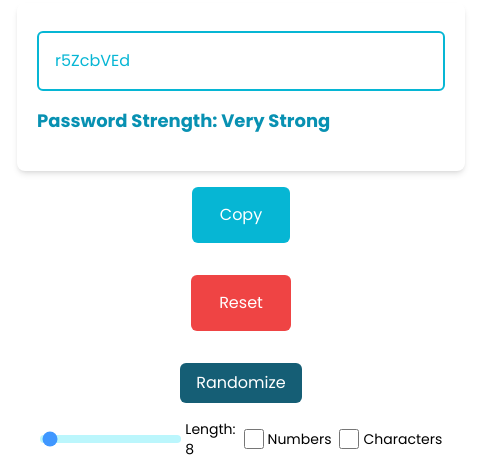
it: App › generates password correctly
The image size is (483, 472).
Click the button "Copy".
click(241, 215)  # box [192,187,290,243]
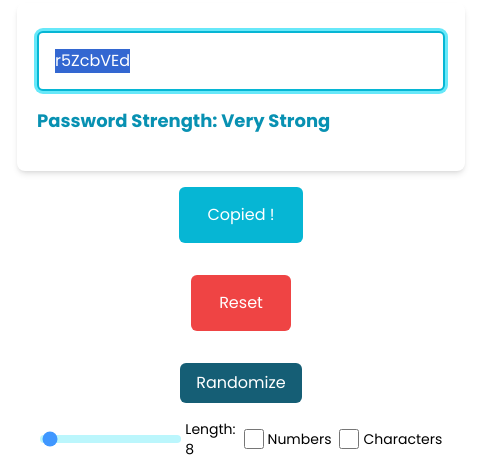
Expected: the field with placeholder "Password" is not empty, [37,31,445,91]
Result: the button "Copy" reads "Copied !" at [179,187,302,243]
